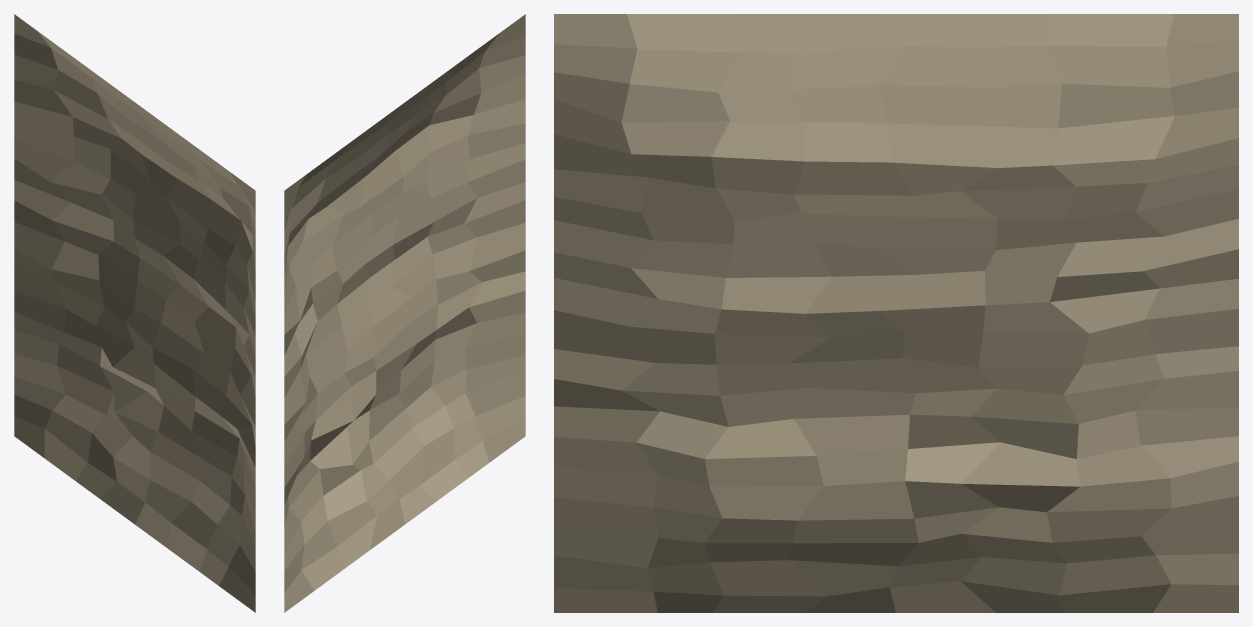
Rendered from SM_SB_Kit_RockFaceA.fbx.
The picture shows the model from 3 angles, left to right: view 1: azimuth 30°, elevation 25°; view 2: azimuth 150°, elevation 25°; view 3: azimuth 270°, elevation 25°; orthographic projection. The views are drawn at different scales.
Visible parts, largest first — view 1: SM_SB_Kit_RockFaceA; view 2: SM_SB_Kit_RockFaceA; view 3: SM_SB_Kit_RockFaceA.
Part boxes in pixels (x1,y1,x2,y2): SM_SB_Kit_RockFaceA: (14, 14, 255, 612); SM_SB_Kit_RockFaceA: (284, 14, 525, 612); SM_SB_Kit_RockFaceA: (554, 14, 1238, 612).
Bounding box in the file's own units: 43.89 × 430 × 415.
